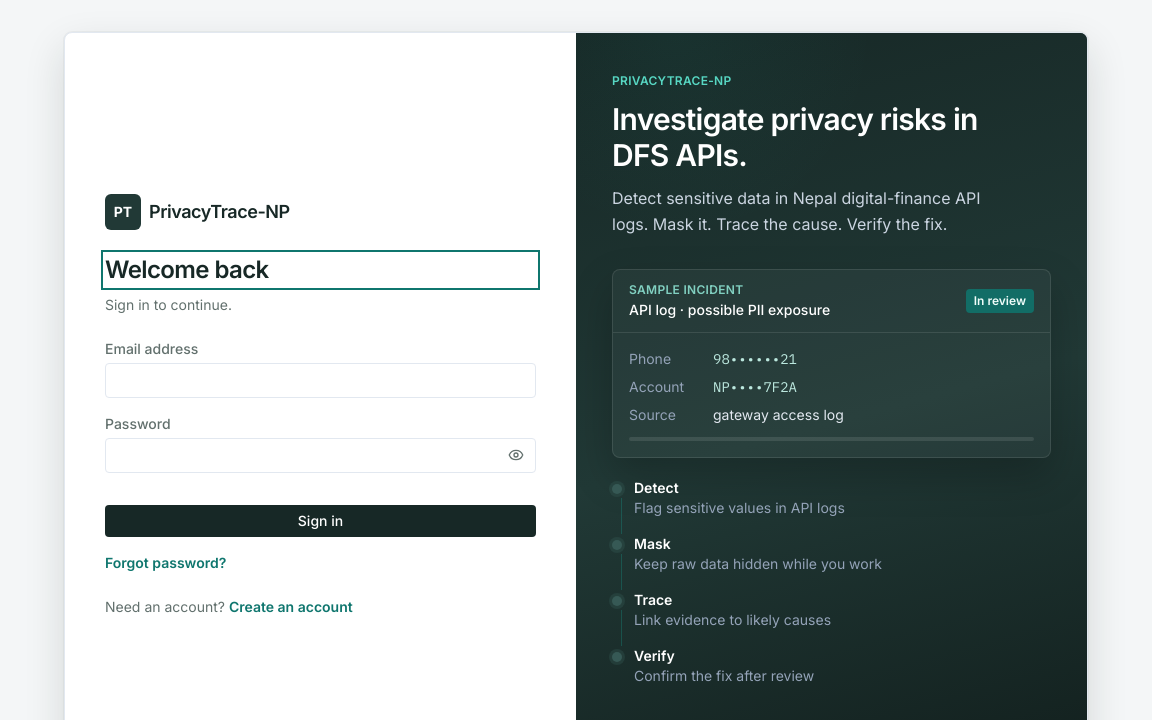
auth signup UI › shows safe login error without echoing credentials
Expected: the heading "Welcome back" is shown, left=105, top=254, right=536, bottom=286
Type "analyst@privacytrace.local" into the field labelled "Email address" at (320, 380), box left=105, top=363, right=536, bottom=398
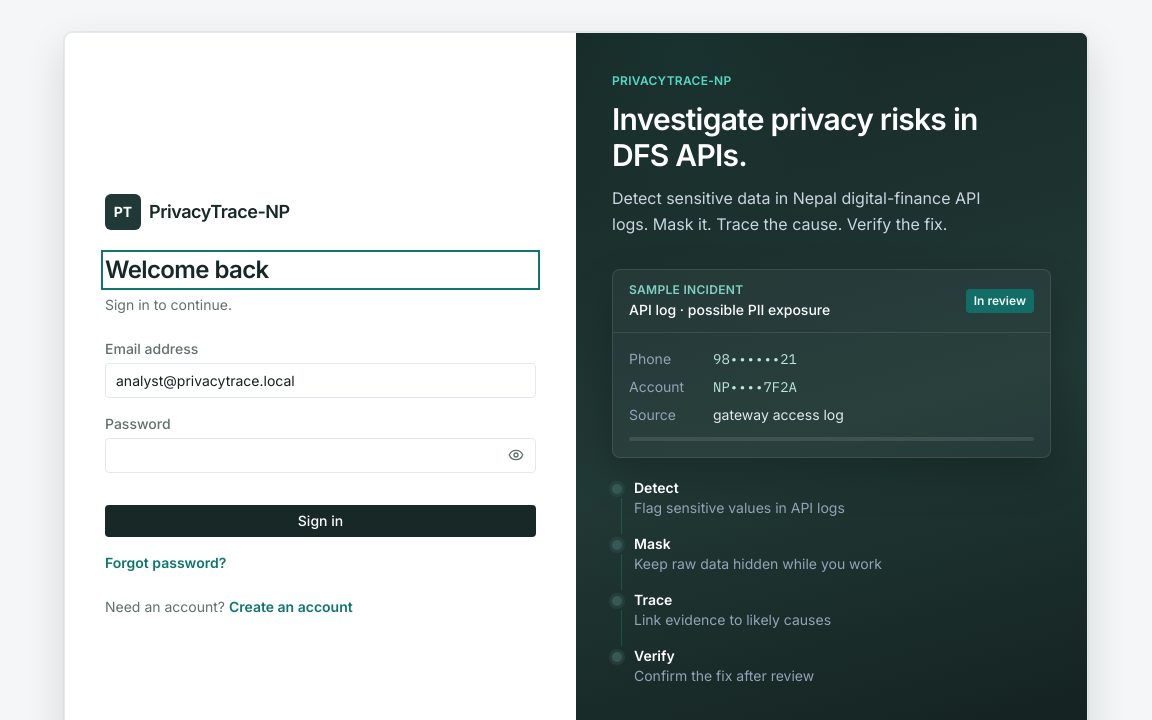
Type "WrongPass123!" into the password field labelled "Password" at (320, 455), box left=105, top=438, right=536, bottom=473
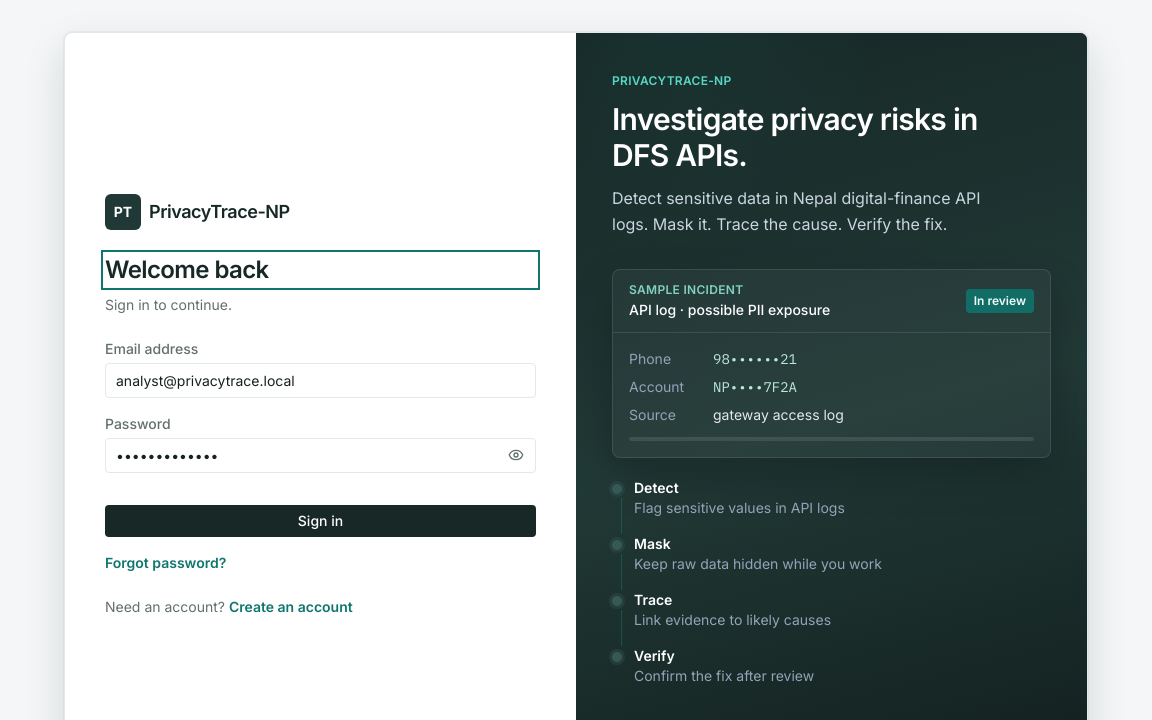
Click the button "Sign in" at (320, 521), box left=105, top=505, right=536, bottom=537
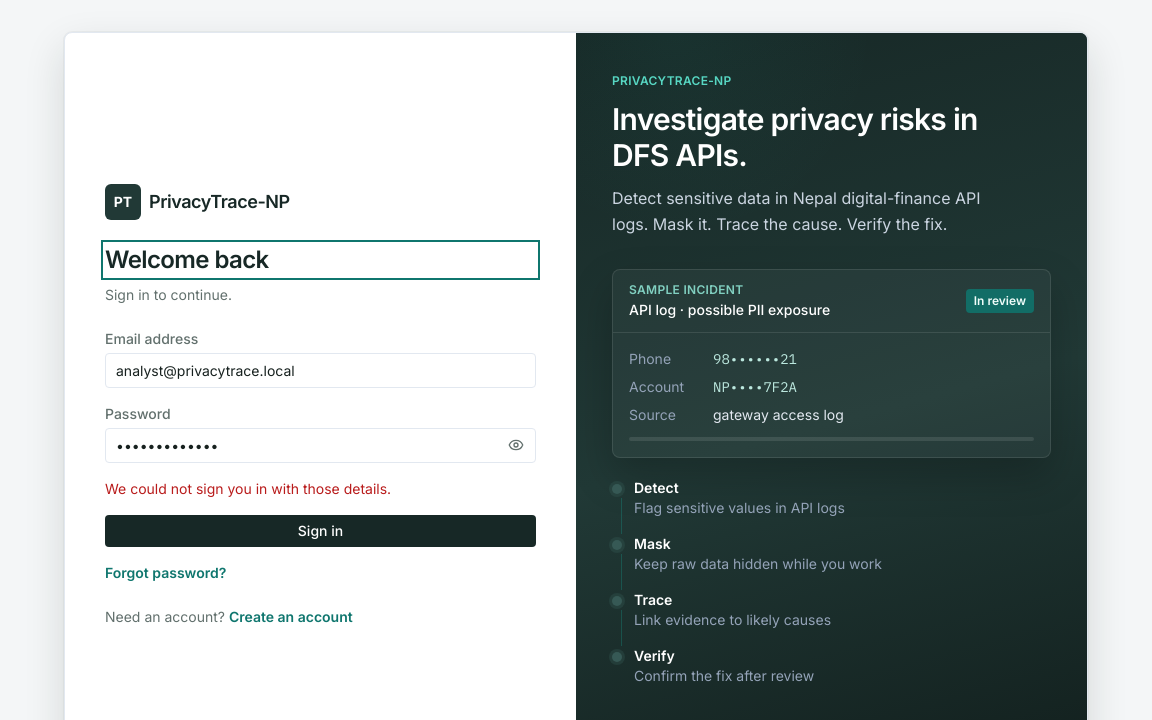
Result: the text "We could not sign you in with those details." is shown at left=105, top=480, right=391, bottom=497
